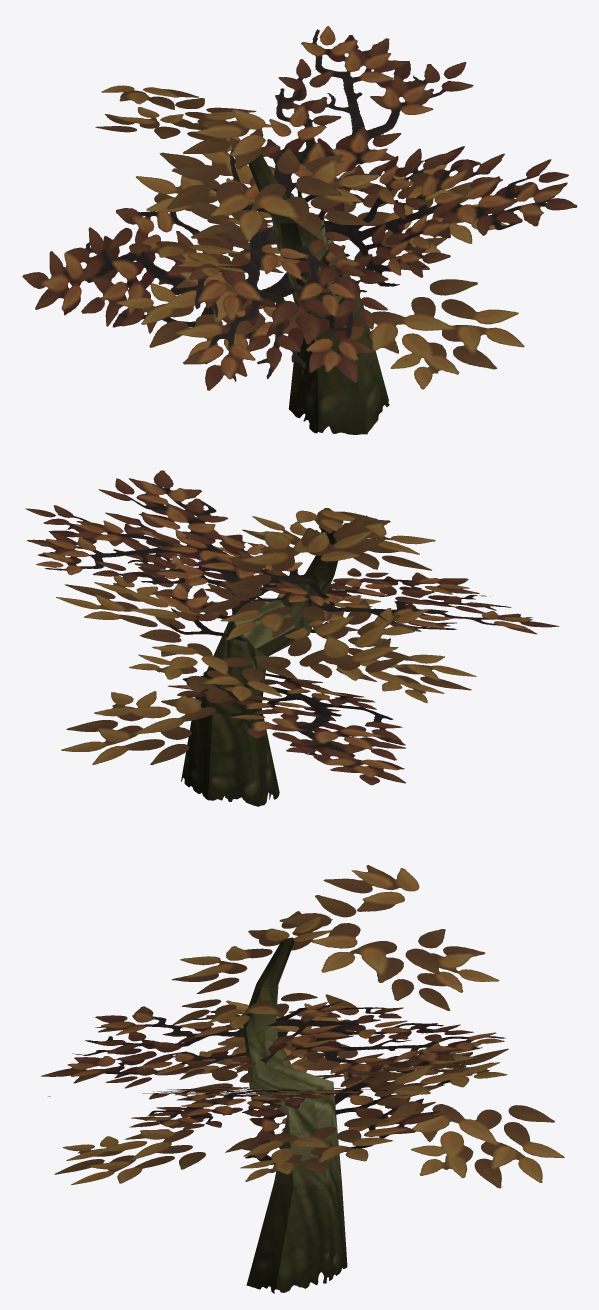
The model's file is ShuA_02.fbx.
The picture shows the model from 3 angles, top to bottom: view 1: azimuth 30°, elevation 25°; view 2: azimuth 150°, elevation 25°; view 3: azimuth 270°, elevation 25°; orthographic projection.
Visible parts, largest first — view 1: ShuA_02, ShuA_02a; view 2: ShuA_02a, ShuA_02; view 3: ShuA_02a, ShuA_02.
Part boxes in pixels (x1,y1,x2,y2): ShuA_02: [22, 26, 577, 390]; ShuA_02a: [95, 85, 524, 434]; ShuA_02a: [56, 508, 476, 806]; ShuA_02: [25, 470, 559, 785]; ShuA_02a: [54, 865, 564, 1293]; ShuA_02: [41, 1001, 505, 1164].
Bounding box in the file's own units: 293 × 216 × 327.
